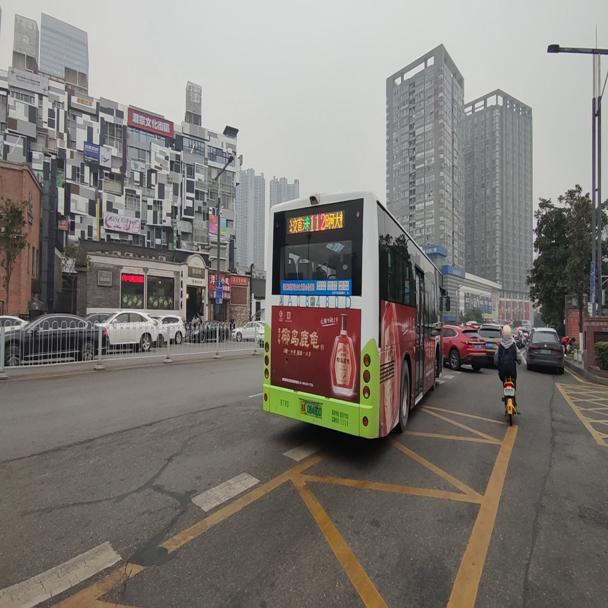bus: (254, 189, 451, 441)
screen: (309, 211, 325, 231)
